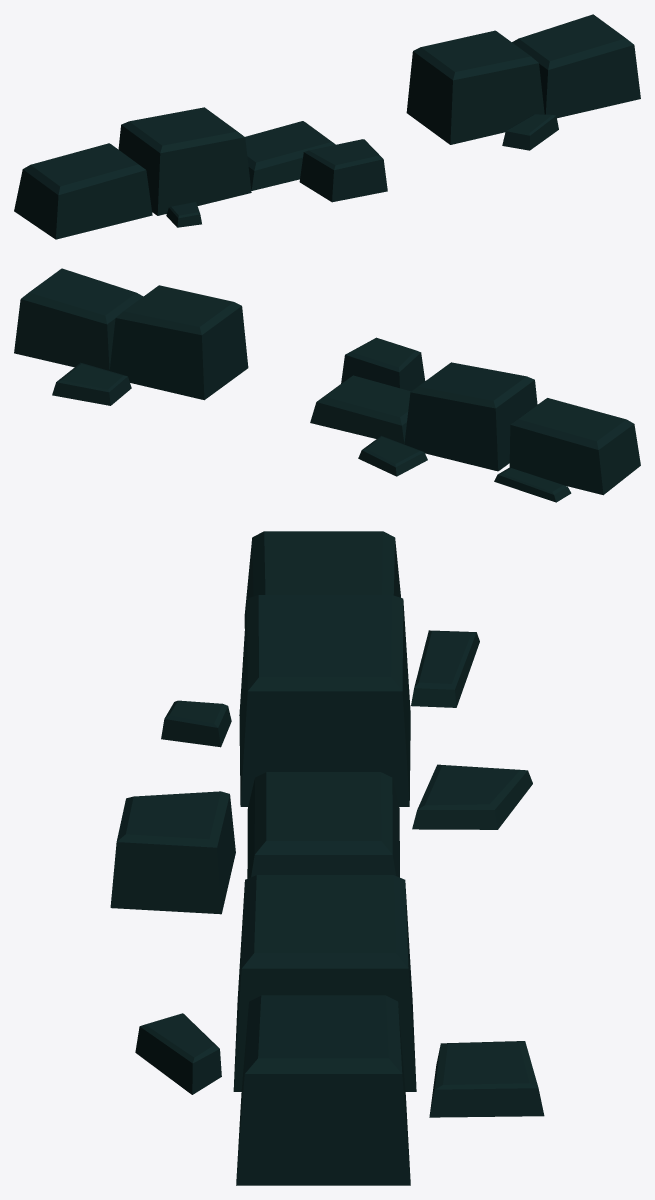
File: fencesection002_stone_0_lev1.glb
The picture shows the model from 3 angles, top to bottom: view 1: azimuth 30°, elevation 25°; view 2: azimuth 150°, elevation 25°; view 3: azimuth 270°, elevation 25°; orthographic projection. The views are drawn at different scales.
Visible parts, largest first — view 1: fencesection002_stone_0_lev1; view 2: fencesection002_stone_0_lev1; view 3: fencesection002_stone_0_lev1.
Part boxes in pixels (<box>): fencesection002_stone_0_lev1: <box>14,14,640,239</box>; fencesection002_stone_0_lev1: <box>14,268,640,502</box>; fencesection002_stone_0_lev1: <box>110,531,544,1185</box>.
Size of the model in its own units: 2.36 by 0.2582 by 0.7561.
